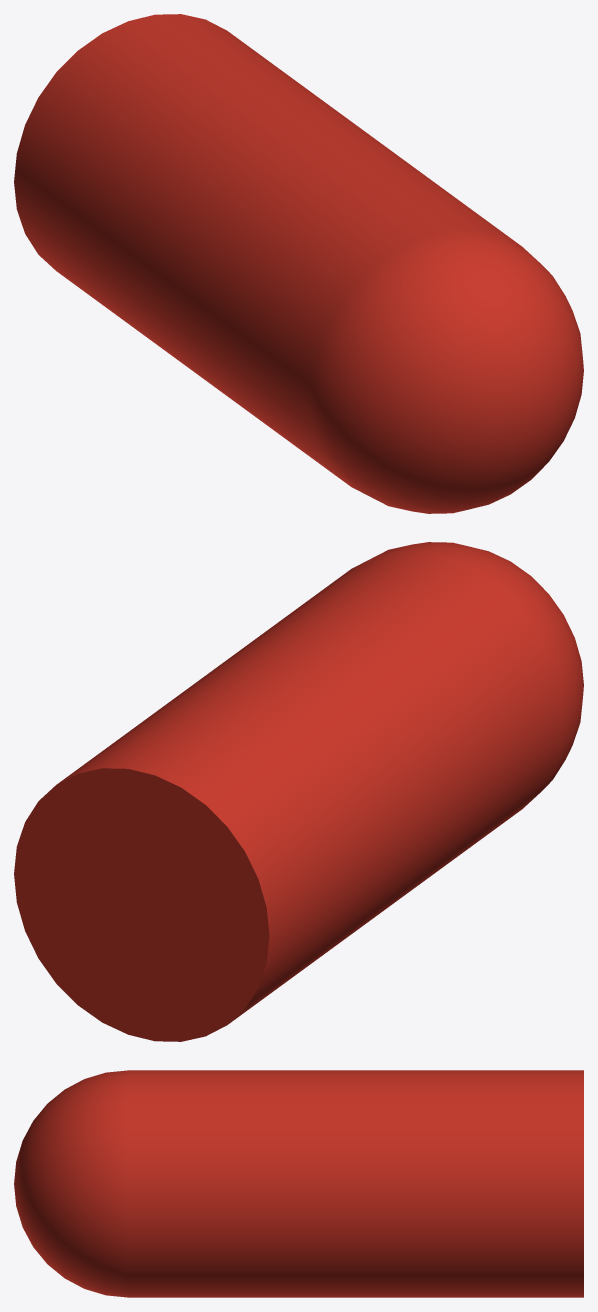
Rendered from obstacle_basic.obj.
The picture shows the model from 3 angles, top to bottom: view 1: azimuth 30°, elevation 25°; view 2: azimuth 150°, elevation 25°; view 3: azimuth 270°, elevation 25°; orthographic projection. The views are drawn at different scales.
Visible parts, largest first — view 1: Body1; view 2: Body1; view 3: Body1.
Part boxes in pixels (left/top/right/bottom): Body1: left=14, top=14, right=583, bottom=513; Body1: left=14, top=542, right=583, bottom=1041; Body1: left=14, top=1070, right=583, bottom=1297.
Bounding box in the file's own units: 30.48 × 30.31 × 76.2.
